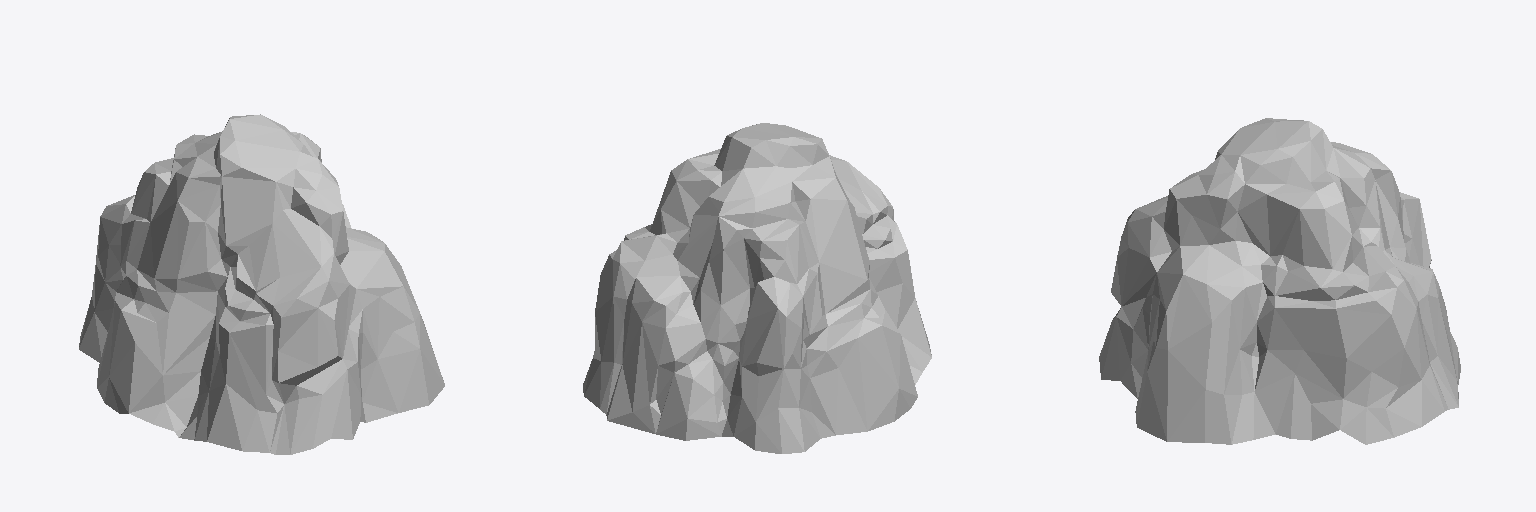
Rendered from Rock_big_single_b_LOD1.obj.
3 views of the same model, side by side, from view 1: azimuth 30°, elevation 25°; view 2: azimuth 150°, elevation 25°; view 3: azimuth 270°, elevation 25° (orthographic).
Parts seen in each view (by area): view 1: Rock_big_single_b; view 2: Rock_big_single_b; view 3: Rock_big_single_b.
Boxes of the visible parts, x1,y1,x2,y2 form: Rock_big_single_b: [79, 114, 444, 454]; Rock_big_single_b: [583, 123, 931, 453]; Rock_big_single_b: [1099, 118, 1460, 444].
Size of the model in its own units: 128 by 113 by 144.